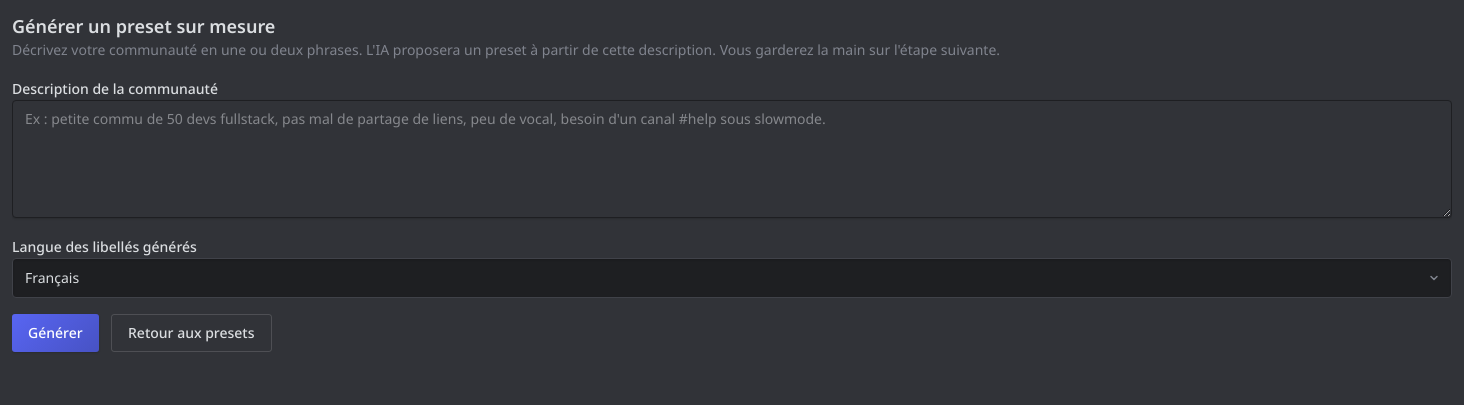
Scenario: AIGenerator › refuse un submit avec description vide
Click the button "Générer": (55, 333) [12, 314, 99, 352]
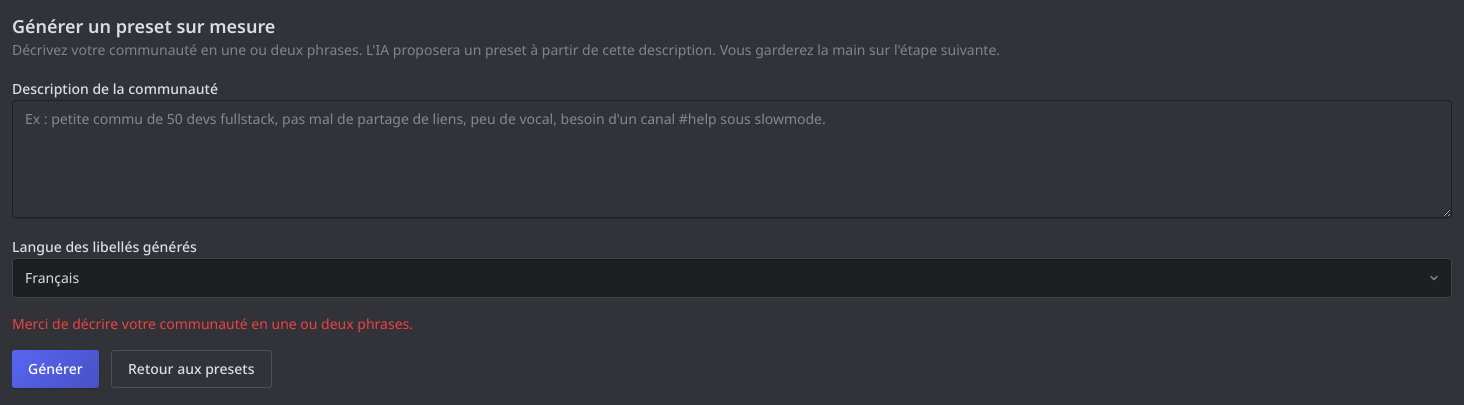
Expected: the message shows "décri", [12, 314, 413, 333]
